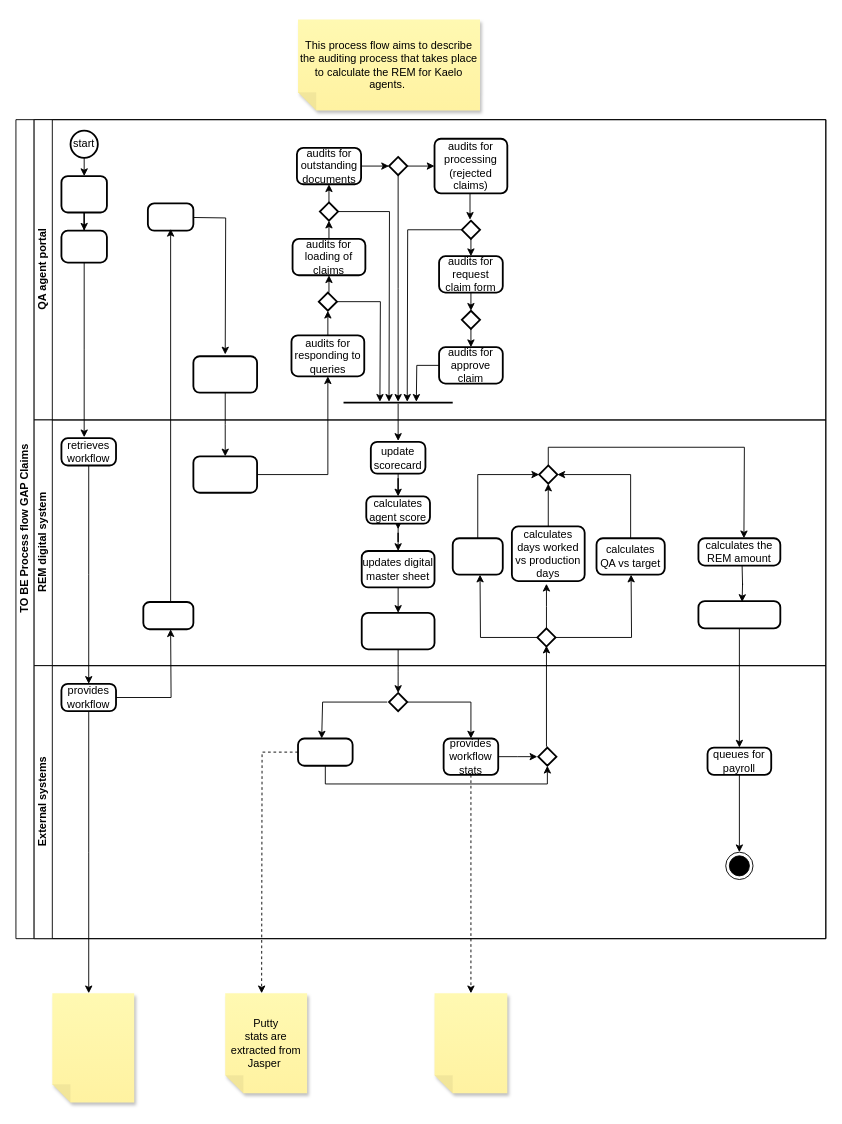
This 842x1124 diagram has some shape labels left out. The centre of each missing label's shape, as x and y in pixels:
calculates stats vs target: [477,556]
captures general information: [225,474]
extracts workflow and putty stats: [397,631]
OWLs creates workflows and captures interactions: [93,1048]
provide putty stats: [325,751]
receives workflow: [168,615]
retrieves workflow information: [225,374]
selects an agent: [83,246]
selects workflow: [170,216]
sends to team leader/manager: [739,614]
views agent list: [83,194]
Workflow stats are extracted from MIP: [471,1044]
